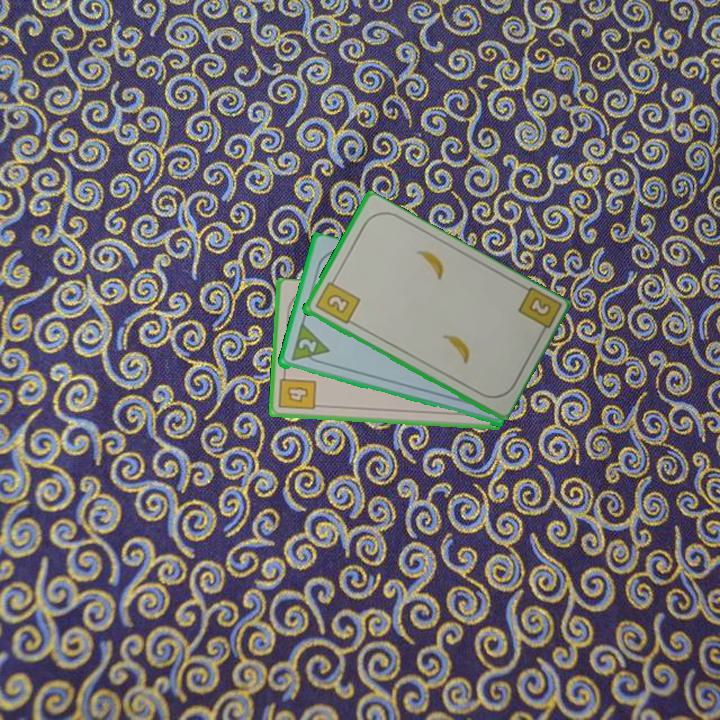2b: (311, 274, 362, 327), (514, 284, 562, 340)
2p: (294, 335, 319, 356)
4b: (276, 369, 319, 413)
